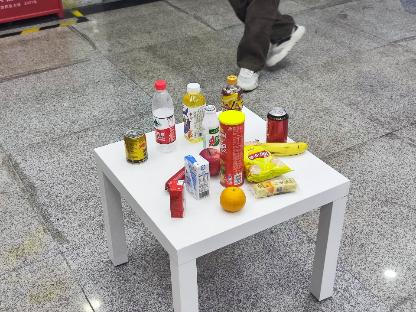Can: (125, 128, 149, 164), (266, 107, 291, 141)
Others: (219, 111, 247, 193), (184, 151, 212, 207), (167, 181, 189, 222)
Plastic Bottle: (152, 78, 176, 156)
